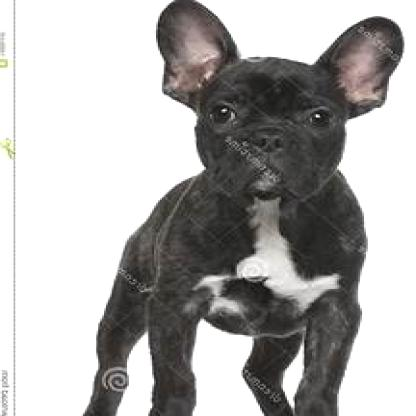dog: (42, 0, 405, 415)
